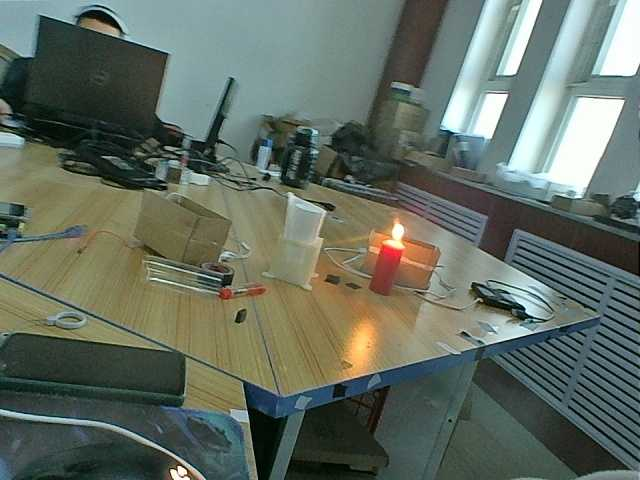candle: (362, 245, 407, 300)
fire: (382, 217, 407, 246)
